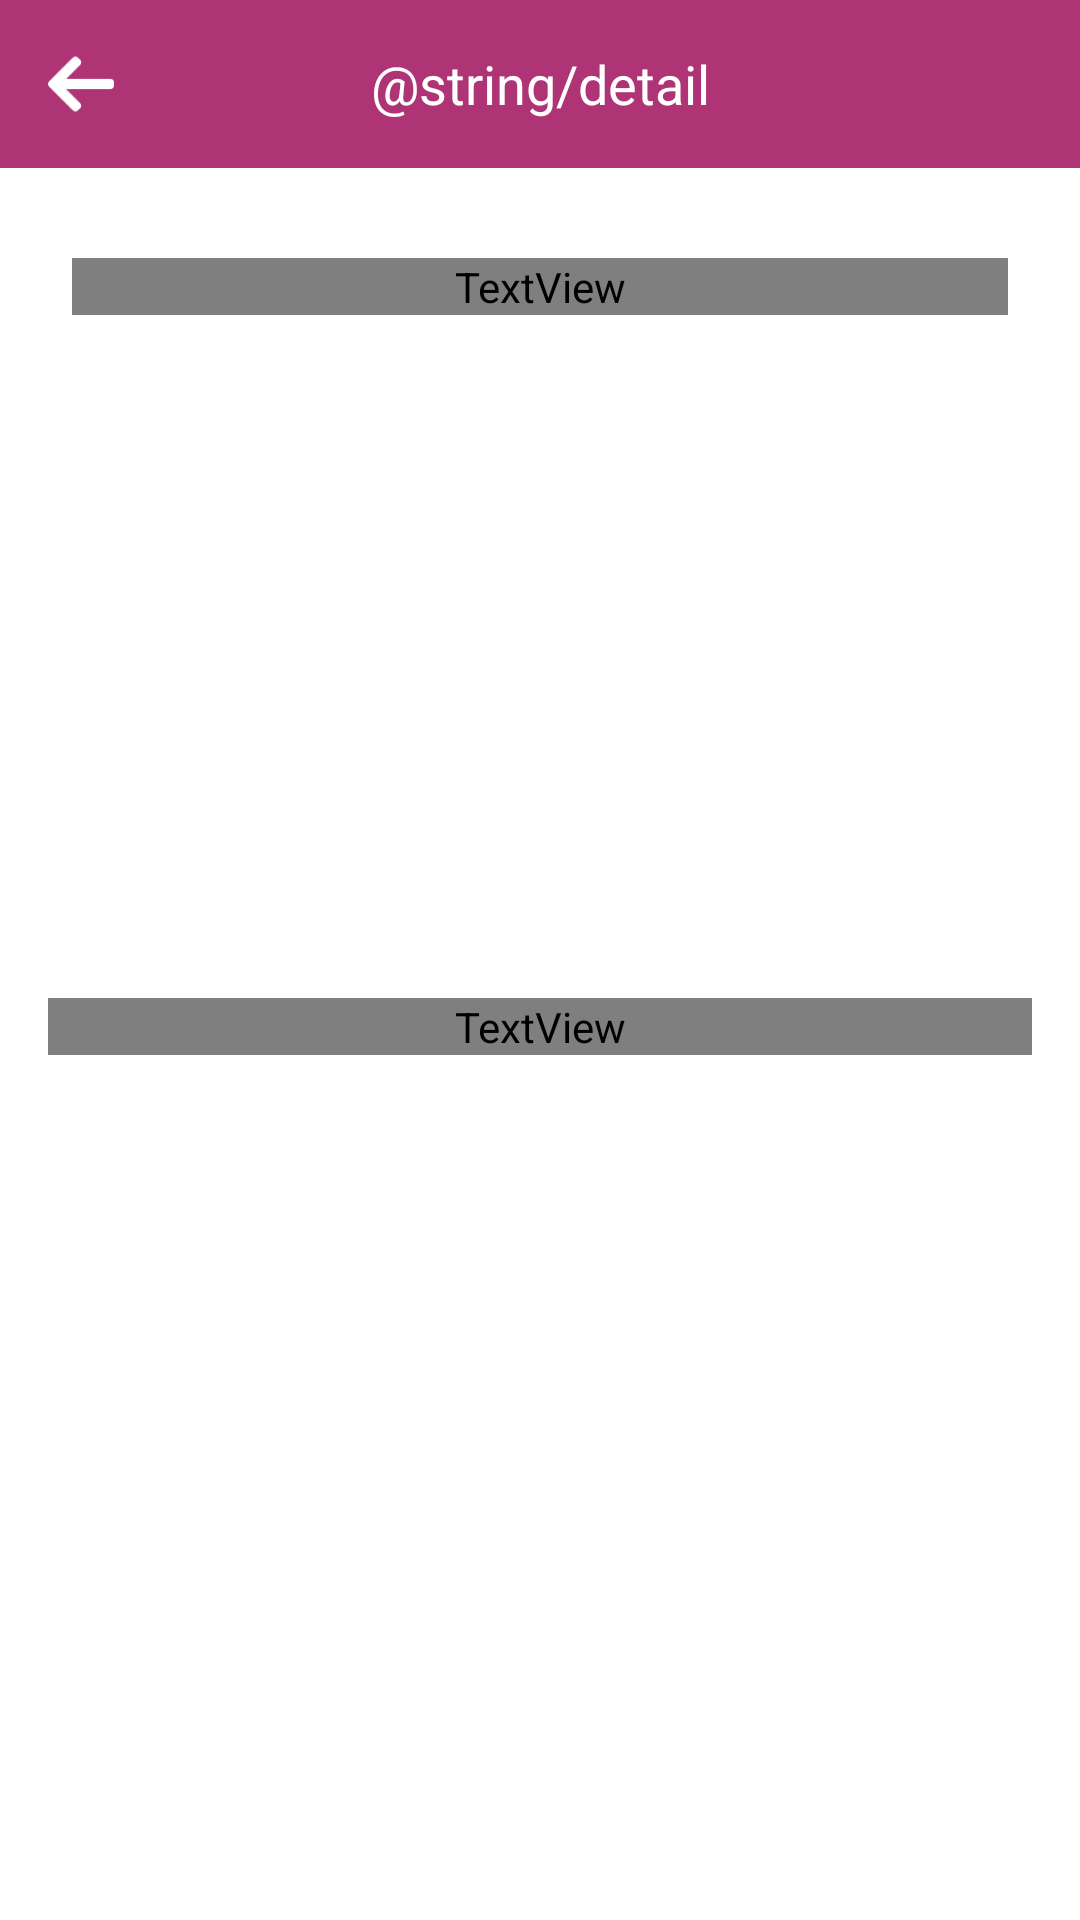

Icon bounding boxes for this 1080px×1920px phone screenshot, format box(x1, y1, x2, y2):
back: box(48, 56, 114, 112)
